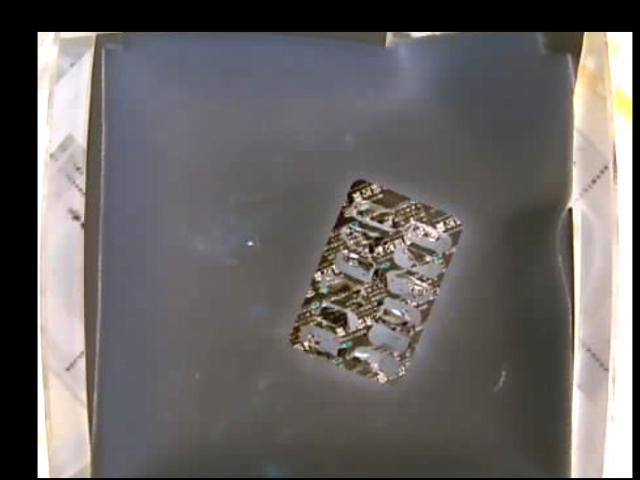Medicine: (288, 177, 461, 385)
